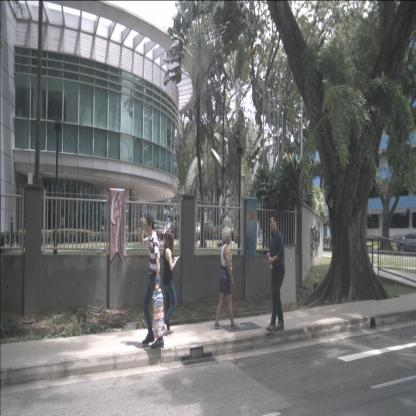human-pedestrian-adult: (141, 212, 165, 350), (213, 226, 241, 329), (266, 213, 285, 333), (162, 232, 180, 336)
vehicle-car: (158, 221, 189, 240), (396, 232, 416, 254)
